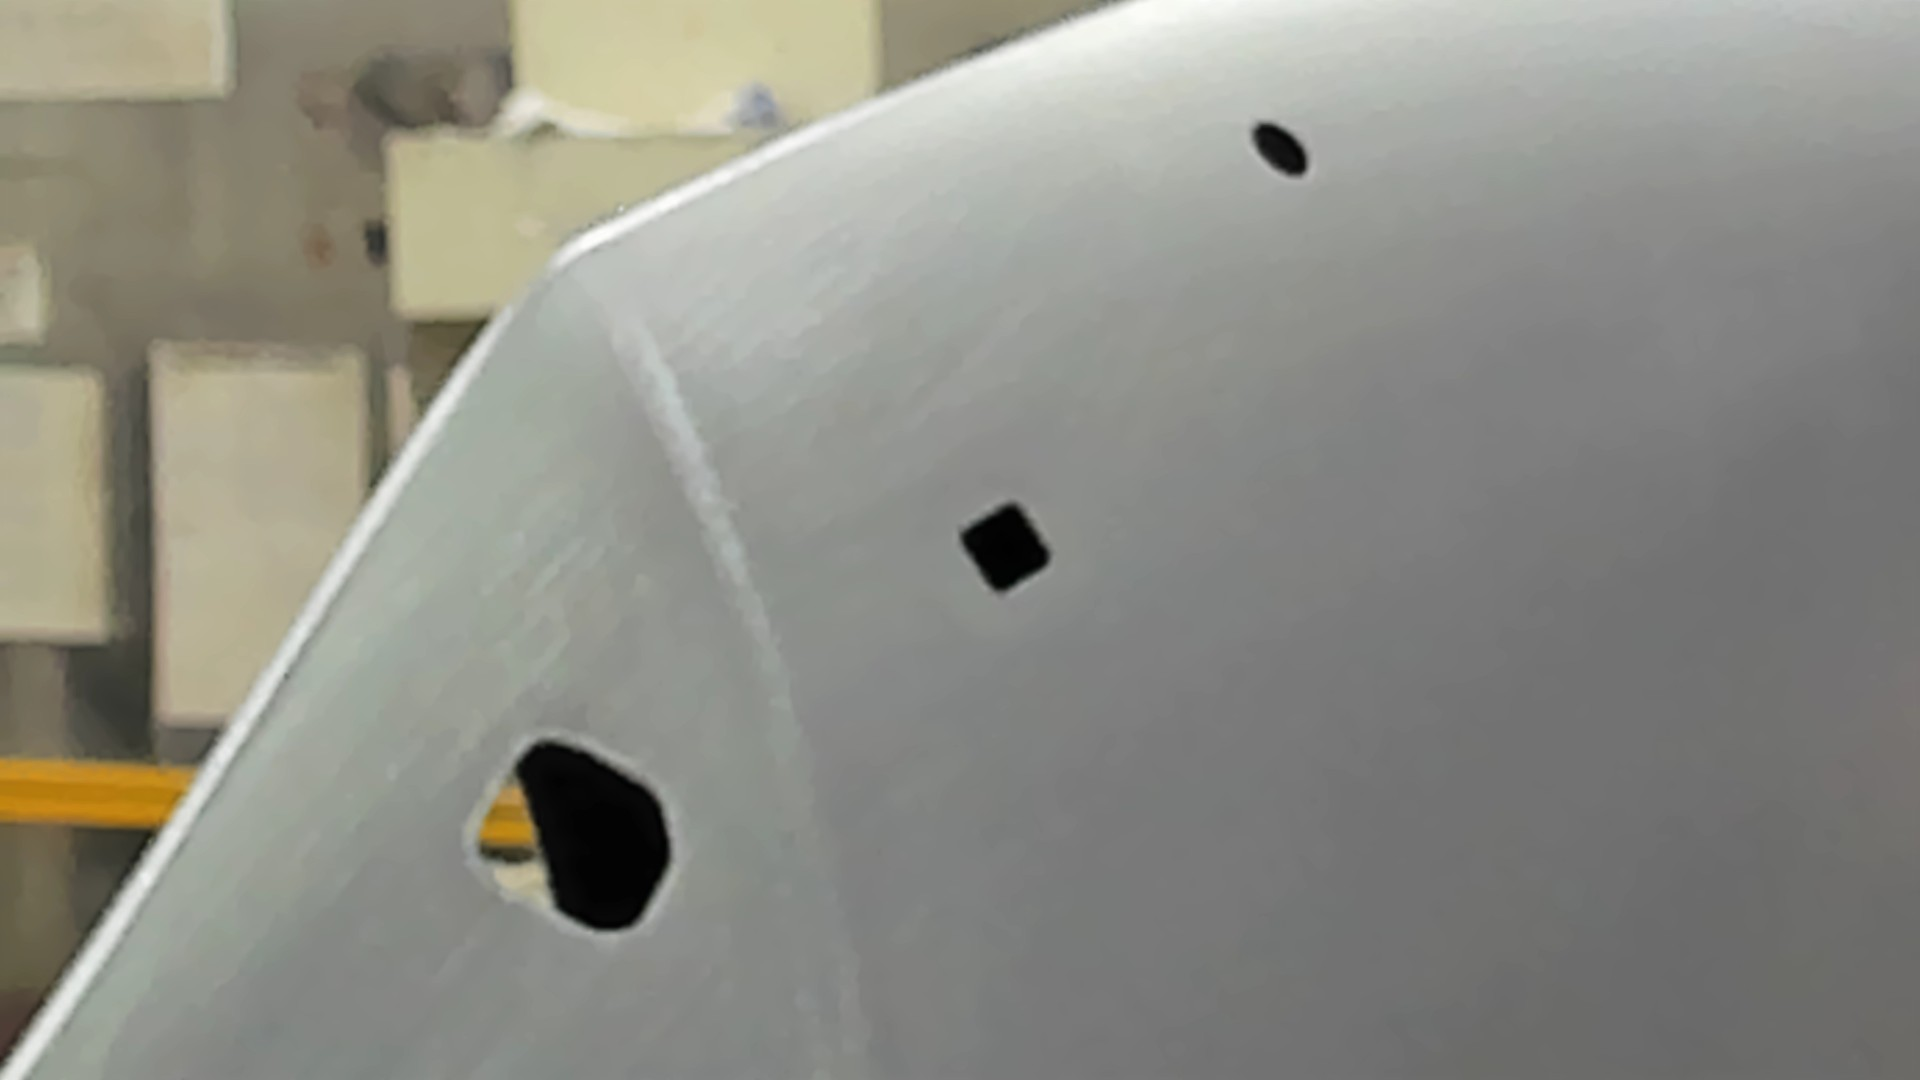chico: (1244, 113, 1315, 186)
grande: (468, 729, 682, 942)
mediano: (949, 489, 1058, 595)
